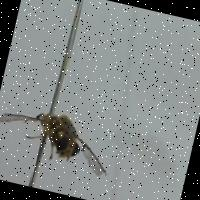Oriental-fruit-fly: (0, 92, 122, 185)
